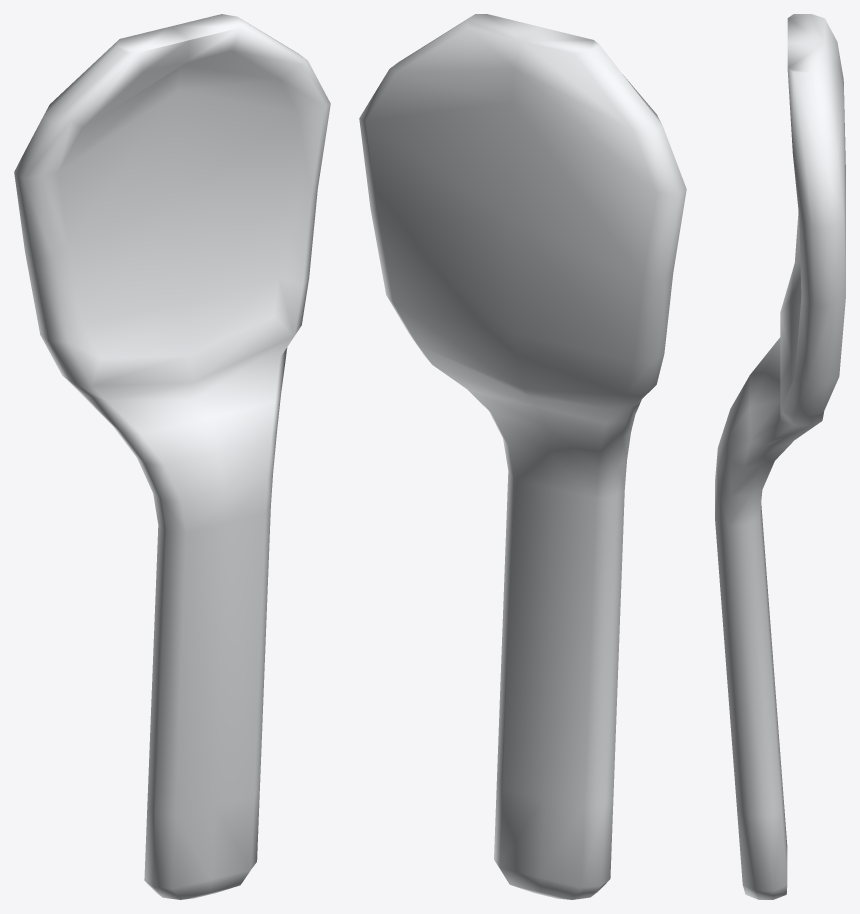
The model's file is cooking_assets_rice_paddle.glb.
The picture shows the model from 3 angles, left to right: view 1: azimuth 30°, elevation 25°; view 2: azimuth 150°, elevation 25°; view 3: azimuth 270°, elevation 25°; orthographic projection. The views are drawn at different scales.
Parts seen in each view (by area): view 1: sspoon_rice_paddle_Cube.023; view 2: sspoon_rice_paddle_Cube.023; view 3: sspoon_rice_paddle_Cube.023.
Part boxes in pixels (x1=…): sspoon_rice_paddle_Cube.023: x1=14, y1=14, x2=330, y2=899; sspoon_rice_paddle_Cube.023: x1=359, y1=14, x2=686, y2=899; sspoon_rice_paddle_Cube.023: x1=715, y1=14, x2=845, y2=899.
Size of the model in its own units: 1.83 by 4.78 by 0.6733.
1 material, 1 textured.
